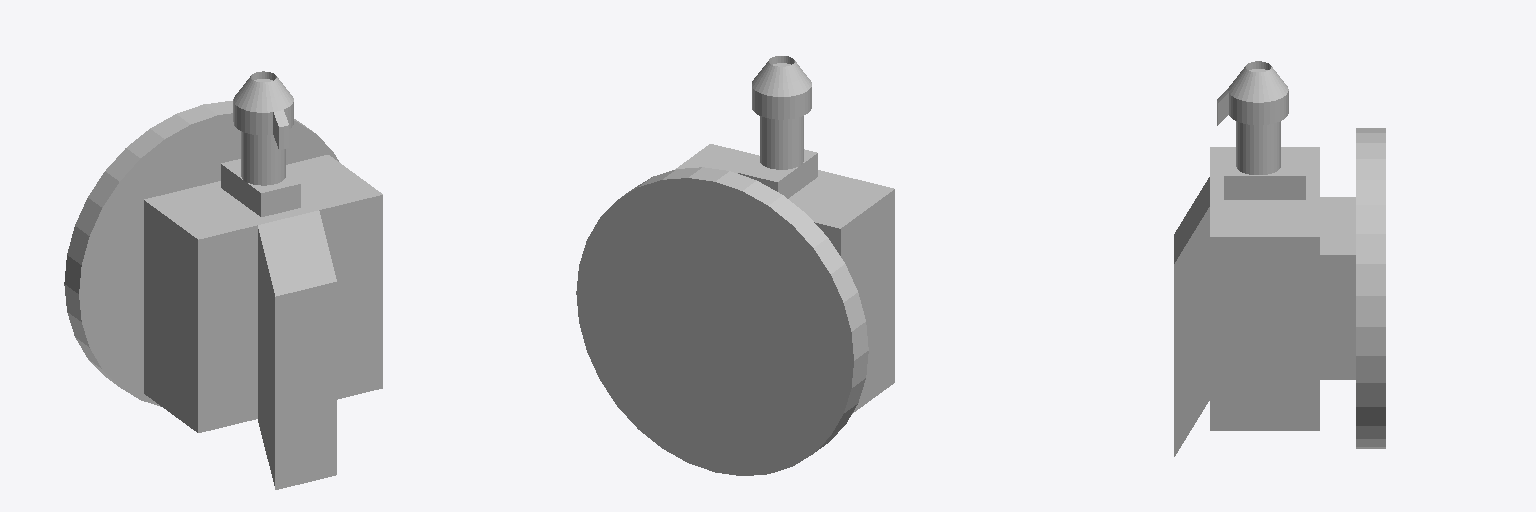
File: Turret.obj
3 views of the same model, side by side, from view 1: azimuth 30°, elevation 25°; view 2: azimuth 150°, elevation 25°; view 3: azimuth 270°, elevation 25° (orthographic).
Parts seen in each view (by area): view 1: Cylinder; view 2: Cylinder; view 3: Cylinder.
Boxes of the visible parts, x1,y1,x2,y2 form: Cylinder: [64, 71, 382, 489]; Cylinder: [576, 56, 894, 475]; Cylinder: [1174, 61, 1385, 456].
Size of the model in its own units: 1.01 by 1.31 by 0.6658.